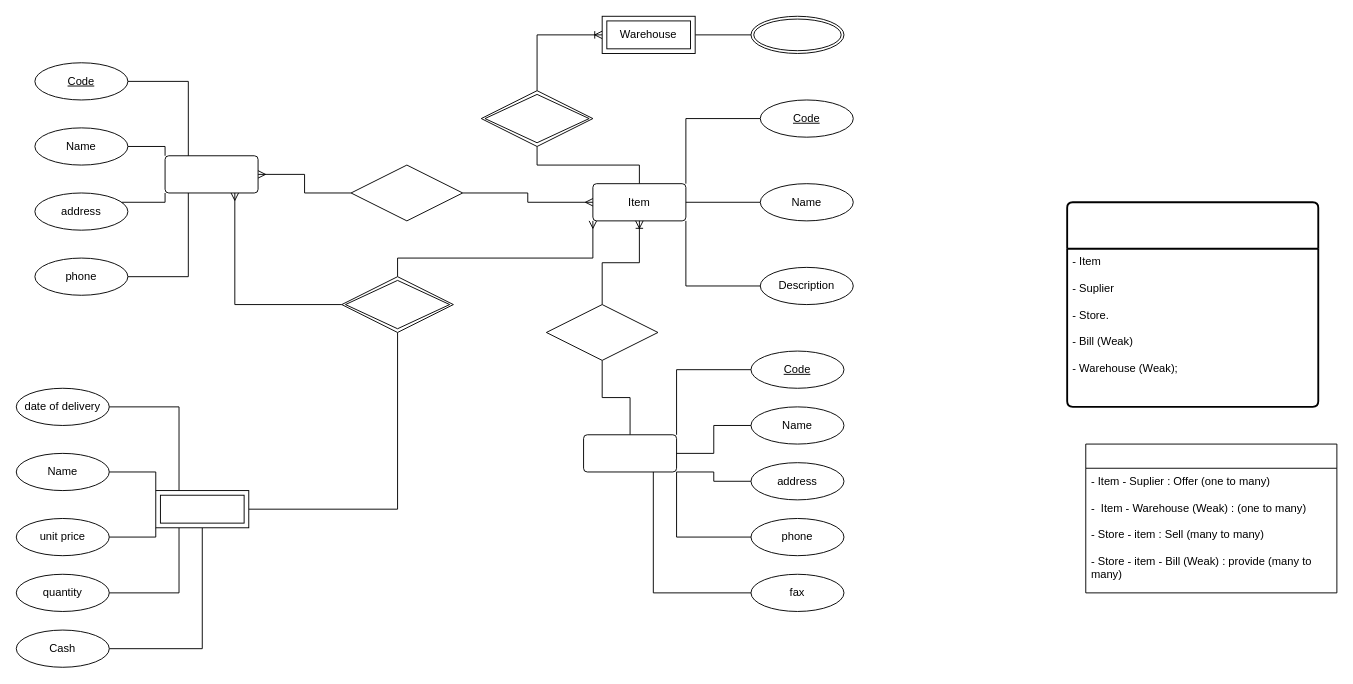
The diagram is 1353 pixels wide and 684 high, and some of its shapes have lost their labels. The shapes that lost their labels are listed below. From the top down, each one's box as (x1, y1, x2, y2) in pixels, then its label:
(750, 15, 844, 53): Place
(480, 90, 593, 146): Stored
(164, 155, 258, 193): Store
(350, 164, 463, 221): Sell
(341, 276, 453, 332): Provide
(1066, 201, 1319, 407): Entity
(545, 304, 658, 360): Offer
(583, 434, 677, 472): Suplier
(155, 490, 249, 528): Bill
(1085, 443, 1337, 593): Relationship
